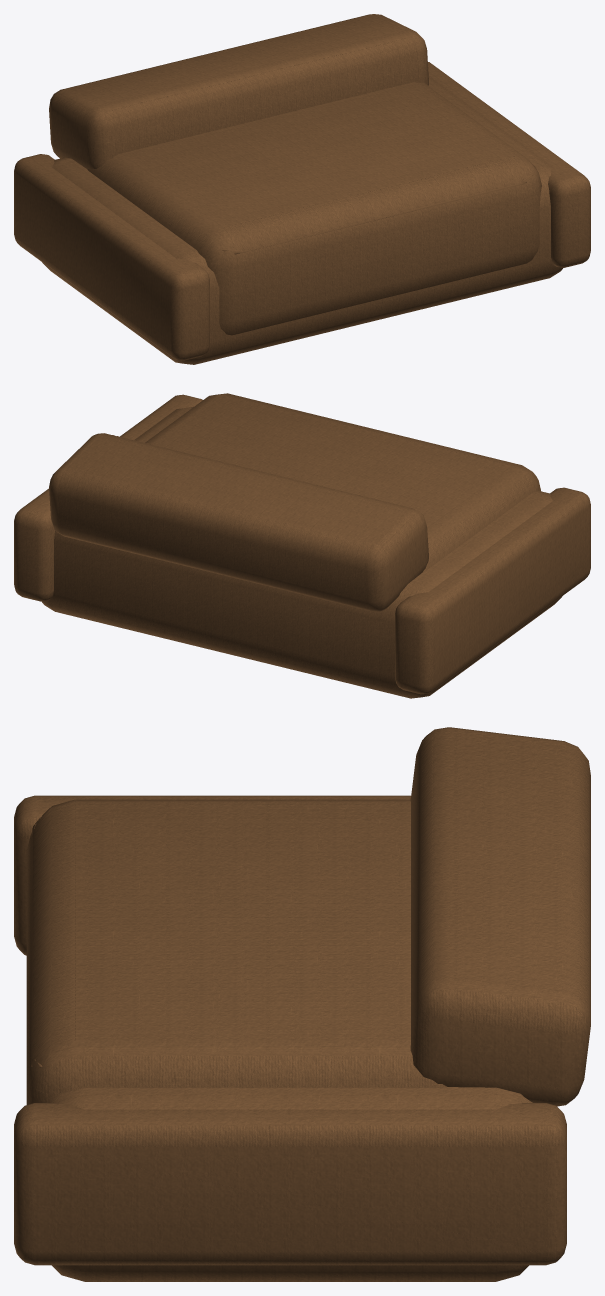
The model's file is upholstered-pet-sofa.glb.
3 renders of one model, top to bottom at view 1: azimuth 30°, elevation 25°; view 2: azimuth 150°, elevation 25°; view 3: azimuth 270°, elevation 25°, orthographic. The views are drawn at different scales.
Visible parts, largest first — view 1: upholstered-pet-sofa authored assembly; view 2: upholstered-pet-sofa authored assembly; view 3: upholstered-pet-sofa authored assembly.
Boxes of the visible parts, box(x1,y1,x2,y2) form: upholstered-pet-sofa authored assembly: box(14, 14, 590, 364); upholstered-pet-sofa authored assembly: box(14, 393, 590, 698); upholstered-pet-sofa authored assembly: box(14, 727, 590, 1281).
Size of the model in its own units: 0.9 by 0.35 by 0.65.
Materials: 2 (1 with a texture image).
